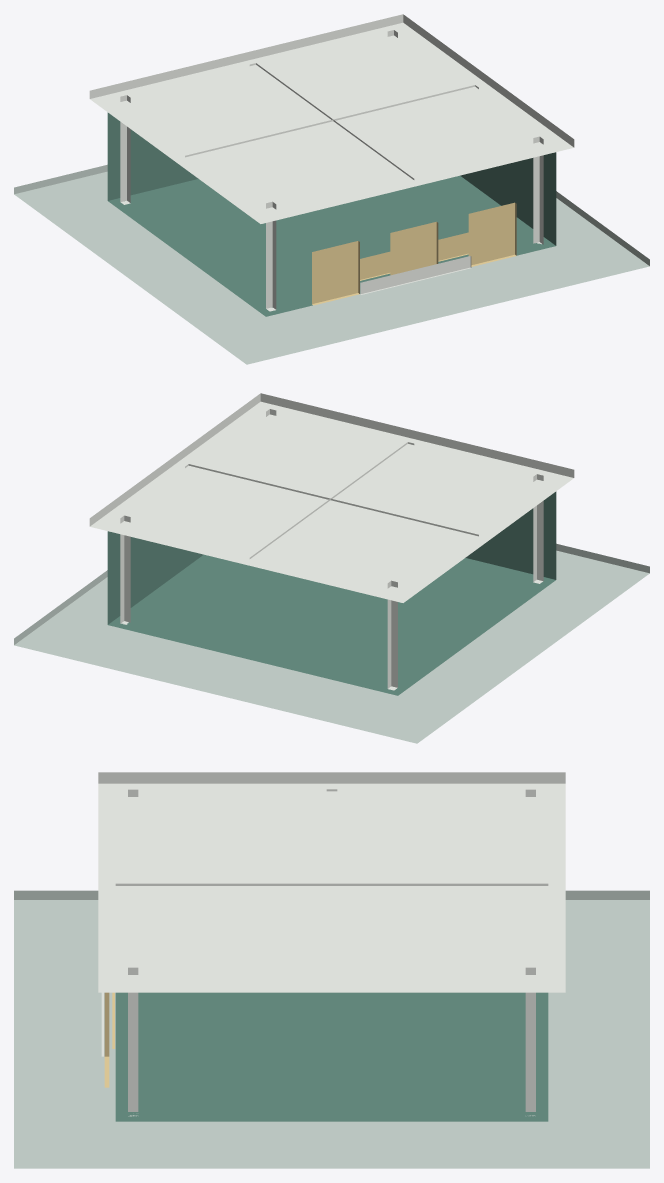
The model's file is warehouse.glb.
The picture shows the model from 3 angles, top to bottom: view 1: azimuth 30°, elevation 25°; view 2: azimuth 150°, elevation 25°; view 3: azimuth 270°, elevation 25°; orthographic projection. The views are drawn at different scales.
Parts seen in each view (by area): view 1: Roof, Foundation, Walls, Details, Frame; view 2: Roof, Walls, Foundation, Frame; view 3: Roof, Foundation, Walls, Frame, Details.
Part boxes in pixels (x1=…): Roof: x1=89, y1=14, x2=574, y2=223; Foundation: x1=14, y1=164, x2=649, y2=364; Walls: x1=107, y1=112, x2=556, y2=316; Details: x1=312, y1=202, x2=516, y2=305; Frame: x1=120, y1=30, x2=543, y2=311; Roof: x1=89, y1=393, x2=574, y2=602; Walls: x1=107, y1=491, x2=556, y2=695; Foundation: x1=14, y1=543, x2=649, y2=743; Frame: x1=120, y1=409, x2=543, y2=690; Roof: x1=98, y1=772, x2=565, y2=992; Foundation: x1=14, y1=890, x2=649, y2=1168; Walls: x1=115, y1=992, x2=548, y2=1121; Frame: x1=115, y1=789, x2=548, y2=1116; Details: x1=101, y1=992, x2=114, y2=1087.
Size of the model in its own units: 40 by 10.94 by 40.
